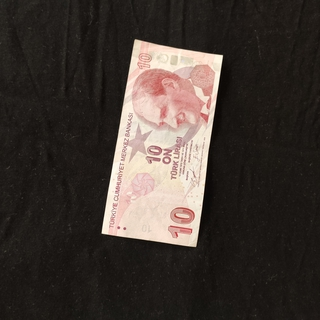10TLFront: (100, 38, 224, 248)
